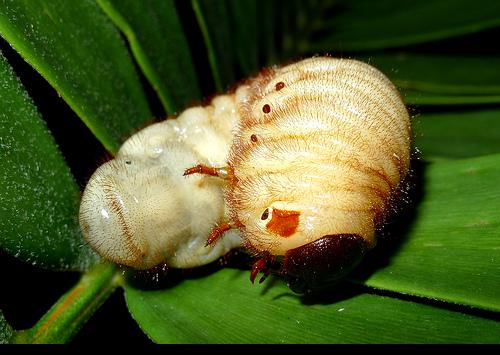grub: (75, 54, 438, 290)
